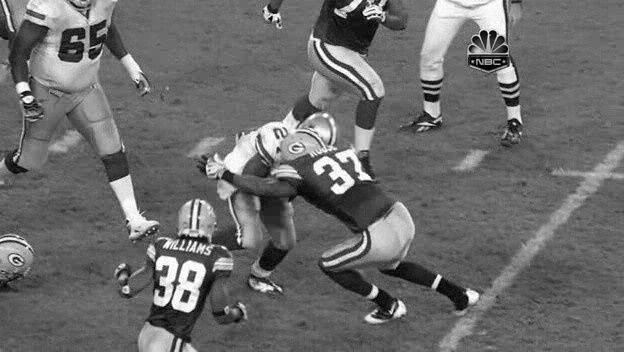person: (300, 114, 335, 159), (299, 114, 334, 159), (301, 114, 336, 159), (300, 113, 335, 158), (300, 115, 335, 160)
target_negative: (229, 156, 426, 339), (455, 221, 595, 300), (574, 231, 624, 352), (326, 61, 500, 89), (393, 119, 424, 265), (595, 207, 612, 313)
